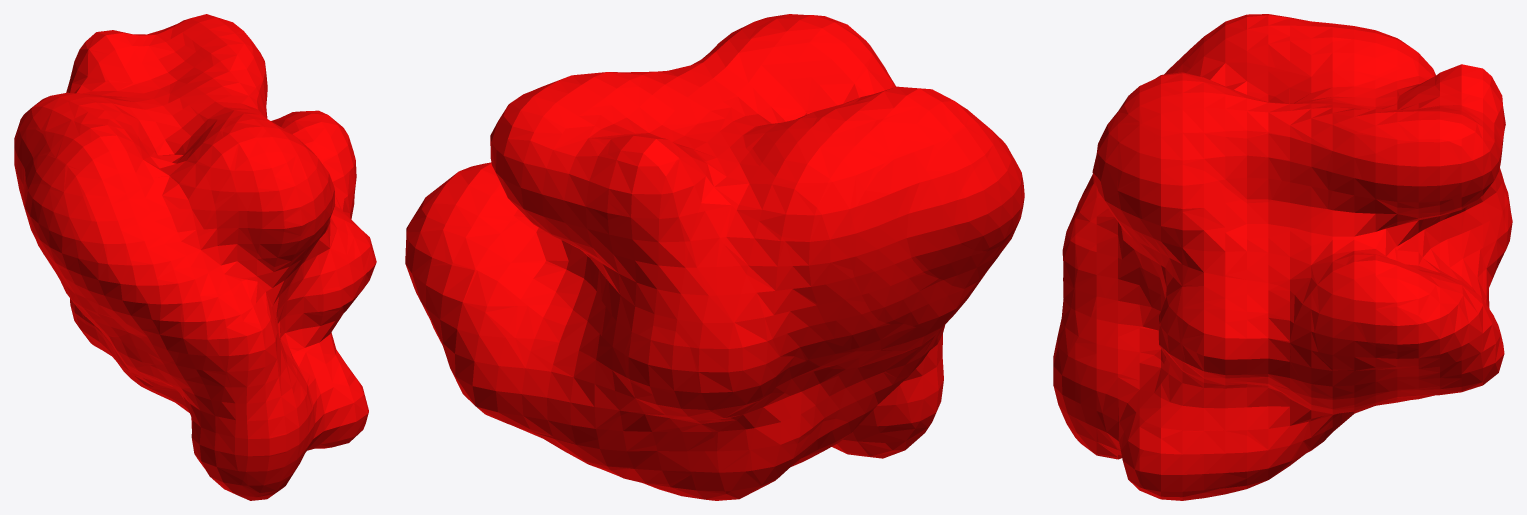
Rendered from fliO_coarse.dae.
The picture shows the model from 3 angles, left to right: view 1: azimuth 30°, elevation 25°; view 2: azimuth 150°, elevation 25°; view 3: azimuth 270°, elevation 25°; orthographic projection. The views are drawn at different scales.
Parts seen in each view (by area): view 1: fliO; view 2: fliO; view 3: fliO.
Boxes of the visible parts, x1,y1,x2,y2 form: fliO: (14, 14, 376, 500); fliO: (405, 14, 1024, 500); fliO: (1053, 14, 1512, 500).
Bounding box in the file's own units: 40.91 × 36.68 × 38.92.
